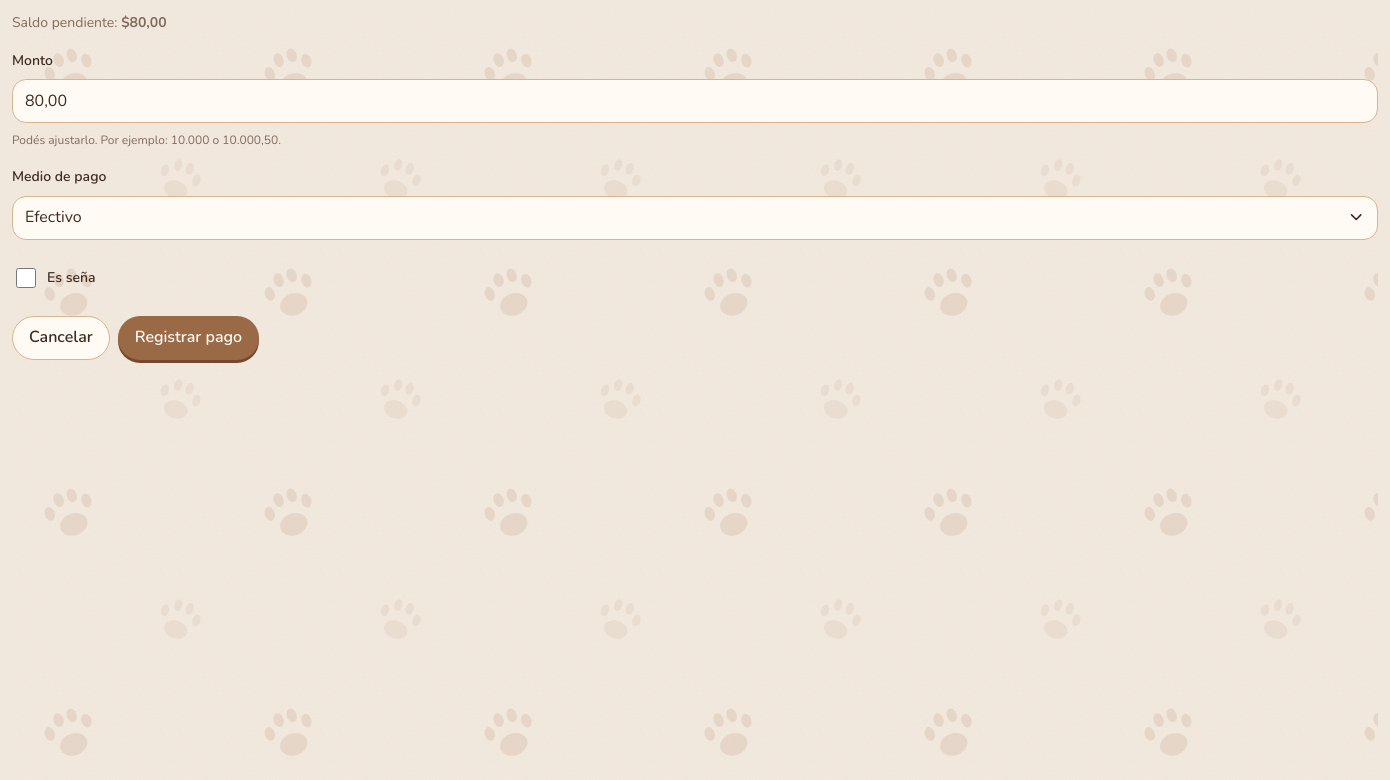
FormularioPago › sugiere el saldo pendiente y lista los medios de pago
Expected: the field labelled "Monto" holds "80,00", [12,79,1378,123]
Expected: the text "$80,00" is shown, [121,13,167,32]
Click the dropdown named "Medio de pago". click: (53,217)
box: [12,196,1378,240]
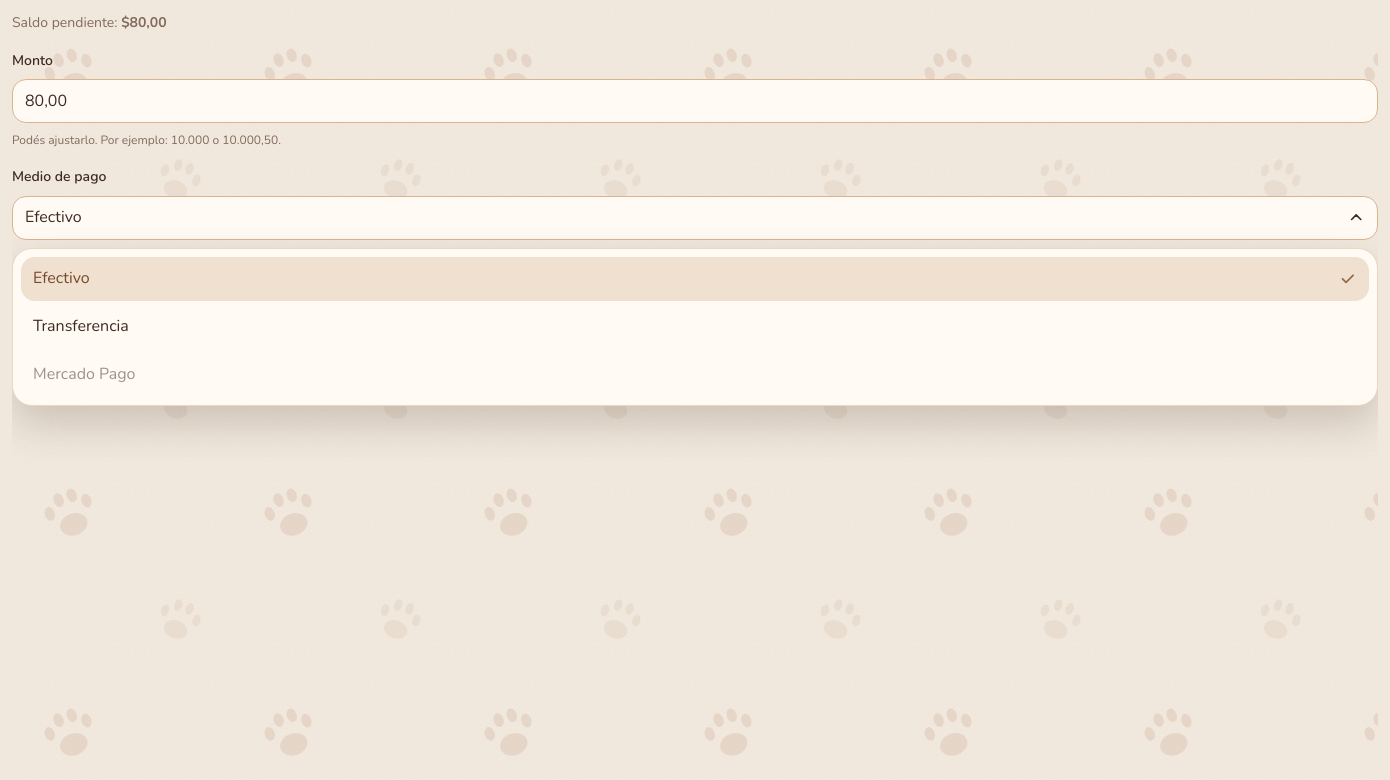
Expected: the checkbox labelled "Es seña" is not checked, [16,268,36,288]
Expected: the option "Transferencia" is shown, [21,305,1369,349]
